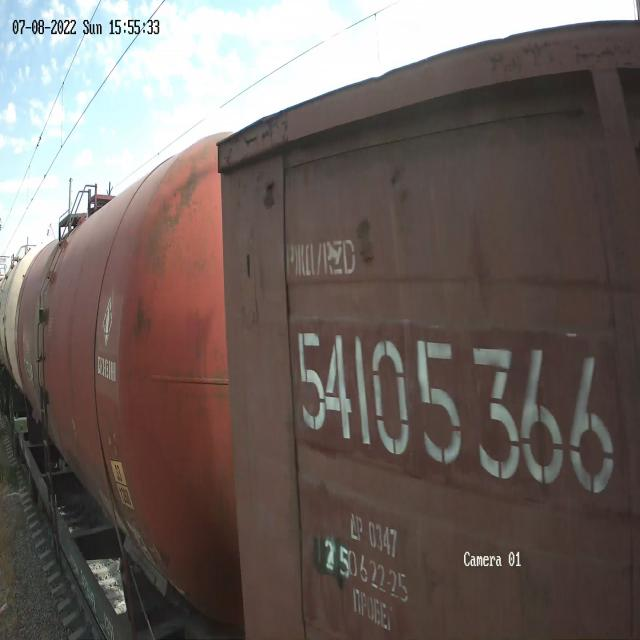gondola: (204, 12, 640, 640)
tank: (14, 122, 238, 640)
